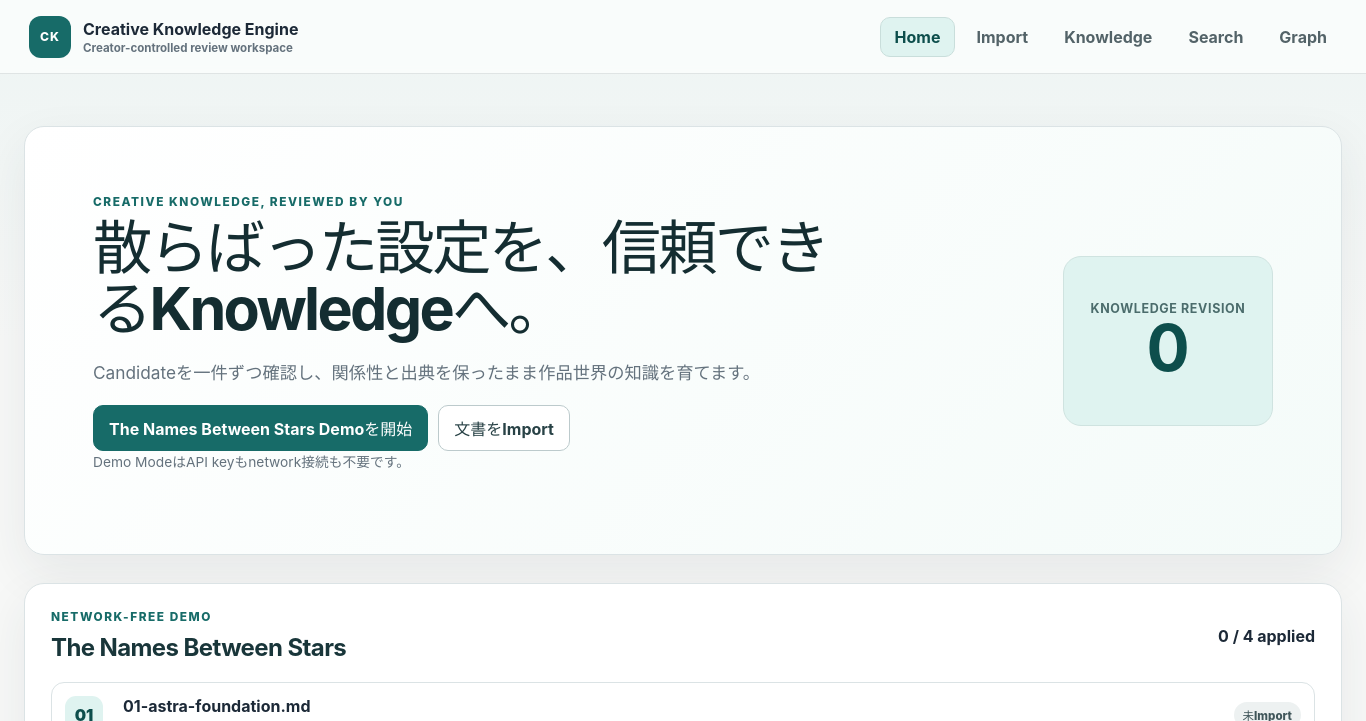
Test: App › starts Project Astra and opens Document 01 Entity Review
This screenshot has width=1366, height=721.
expect the heading "散らばった設定を、信頼できるKnowledgeへ。" is shown: met, box left=93, top=218, right=873, bottom=340
Click the button "The Names Between Stars Demoを開始": (261, 428) left=93, top=405, right=428, bottom=451
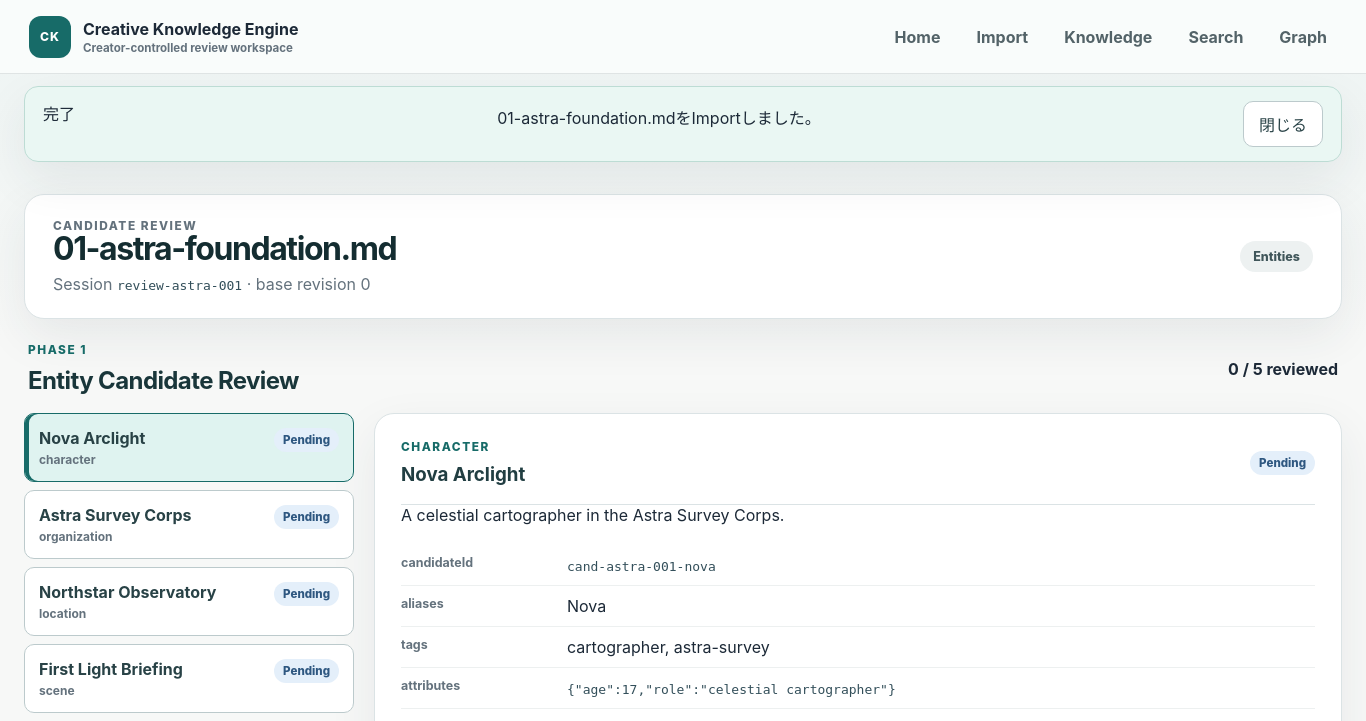
expect the heading "01-astra-foundation.md" is shown: met, box left=53, top=233, right=396, bottom=266
expect the heading "Entity Candidate Review" is shown: met, box left=28, top=366, right=299, bottom=395
expect the button "Nova Arclight character pending" is shown: met, box left=24, top=413, right=354, bottom=482
